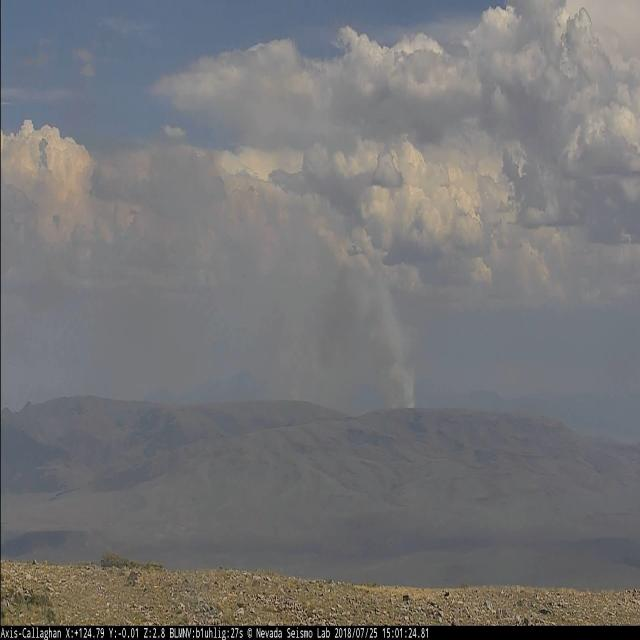smoke: (236, 222, 416, 408)
